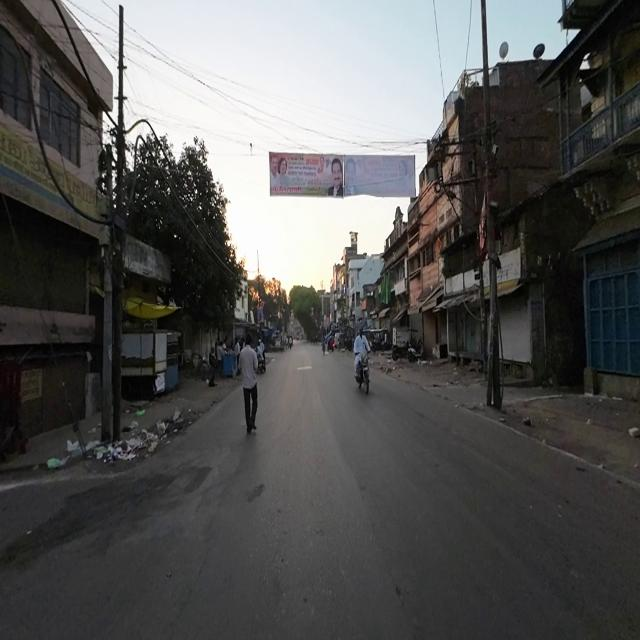Garbage: (94, 443, 134, 465), (134, 430, 160, 454)
